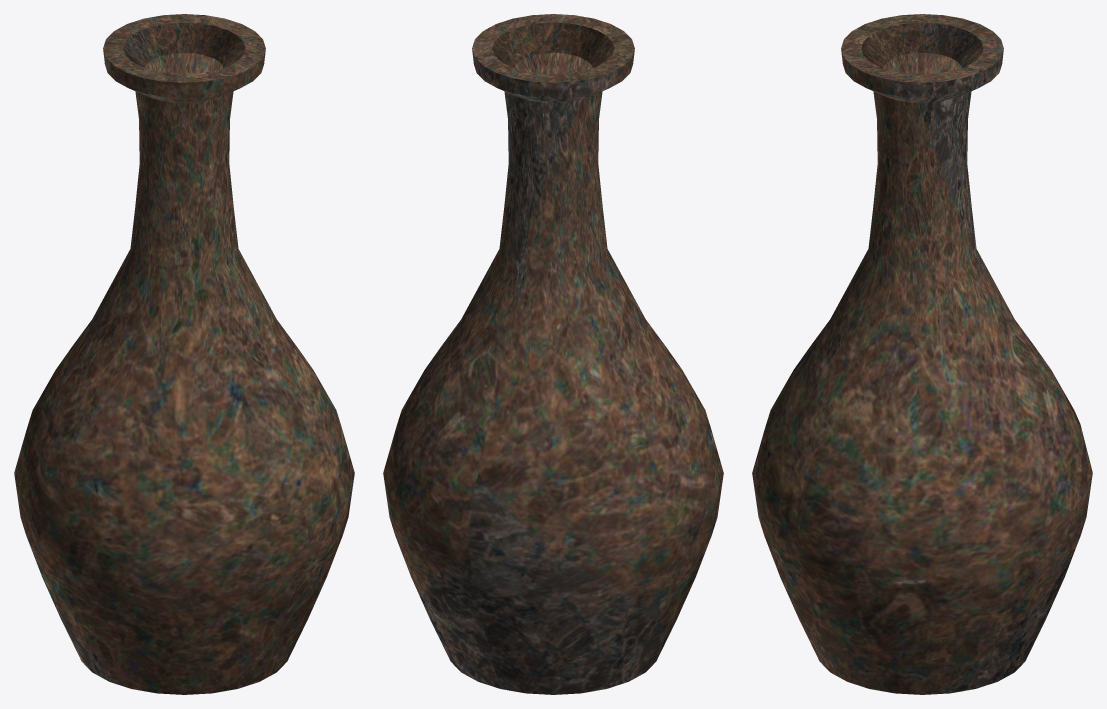
File: Vase01.fbx
3 renders of one model, left to right at view 1: azimuth 30°, elevation 25°; view 2: azimuth 150°, elevation 25°; view 3: azimuth 270°, elevation 25°, orthographic.
Visible parts, largest first — view 1: Mesh; view 2: Mesh; view 3: Mesh.
Part boxes in pixels (x1,y1,x2,y2): Mesh: [14, 14, 354, 694]; Mesh: [383, 14, 723, 694]; Mesh: [752, 14, 1092, 694].
Bounding box in the file's own units: 52.54 × 102 × 52.54.
